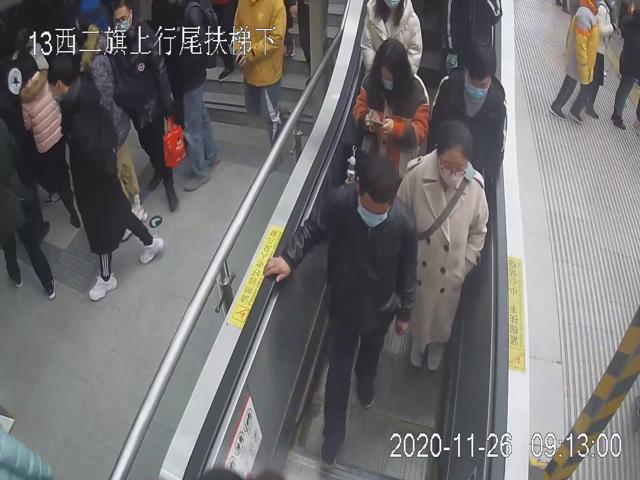person: (263, 150, 418, 474), (48, 54, 166, 304), (395, 116, 490, 376), (430, 39, 508, 187), (350, 37, 430, 175)
